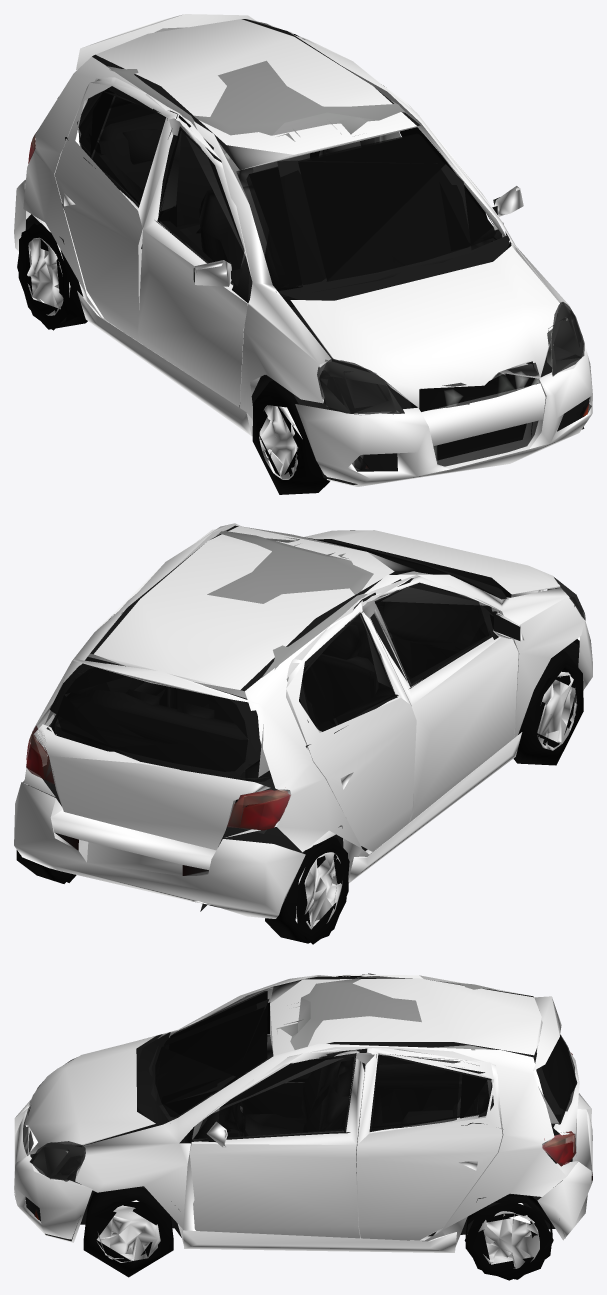
The picture shows the model from 3 angles, top to bottom: view 1: azimuth 30°, elevation 25°; view 2: azimuth 150°, elevation 25°; view 3: azimuth 270°, elevation 25°; orthographic projection. The views are drawn at different scales.
Visible parts, largest first — view 1: body, glass, wheel_RL, wheel_FL; view 2: body, glass, wheel_RL, wheel_FL; view 3: body, glass, wheel_RR, wheel_FR.
Part boxes in pixels (x1=…): body: x1=14, y1=14, x2=592, y2=486; glass: x1=28, y1=89, x2=591, y2=469; wheel_RL: x1=18, y1=223, x2=69, y2=330; wheel_FL: x1=252, y1=394, x2=329, y2=494; body: x1=14, y1=523, x2=592, y2=943; glass: x1=26, y1=530, x2=585, y2=828; wheel_RL: x1=296, y1=837, x2=348, y2=944; wheel_FL: x1=513, y1=671, x2=583, y2=765; body: x1=14, y1=973, x2=592, y2=1279; glass: x1=23, y1=991, x2=575, y2=1216; wheel_RR: x1=464, y1=1200, x2=553, y2=1280; wheel_FR: x1=83, y1=1202, x2=173, y2=1277.
Size of the model in its own units: 1.91 by 1.49 by 3.59.
